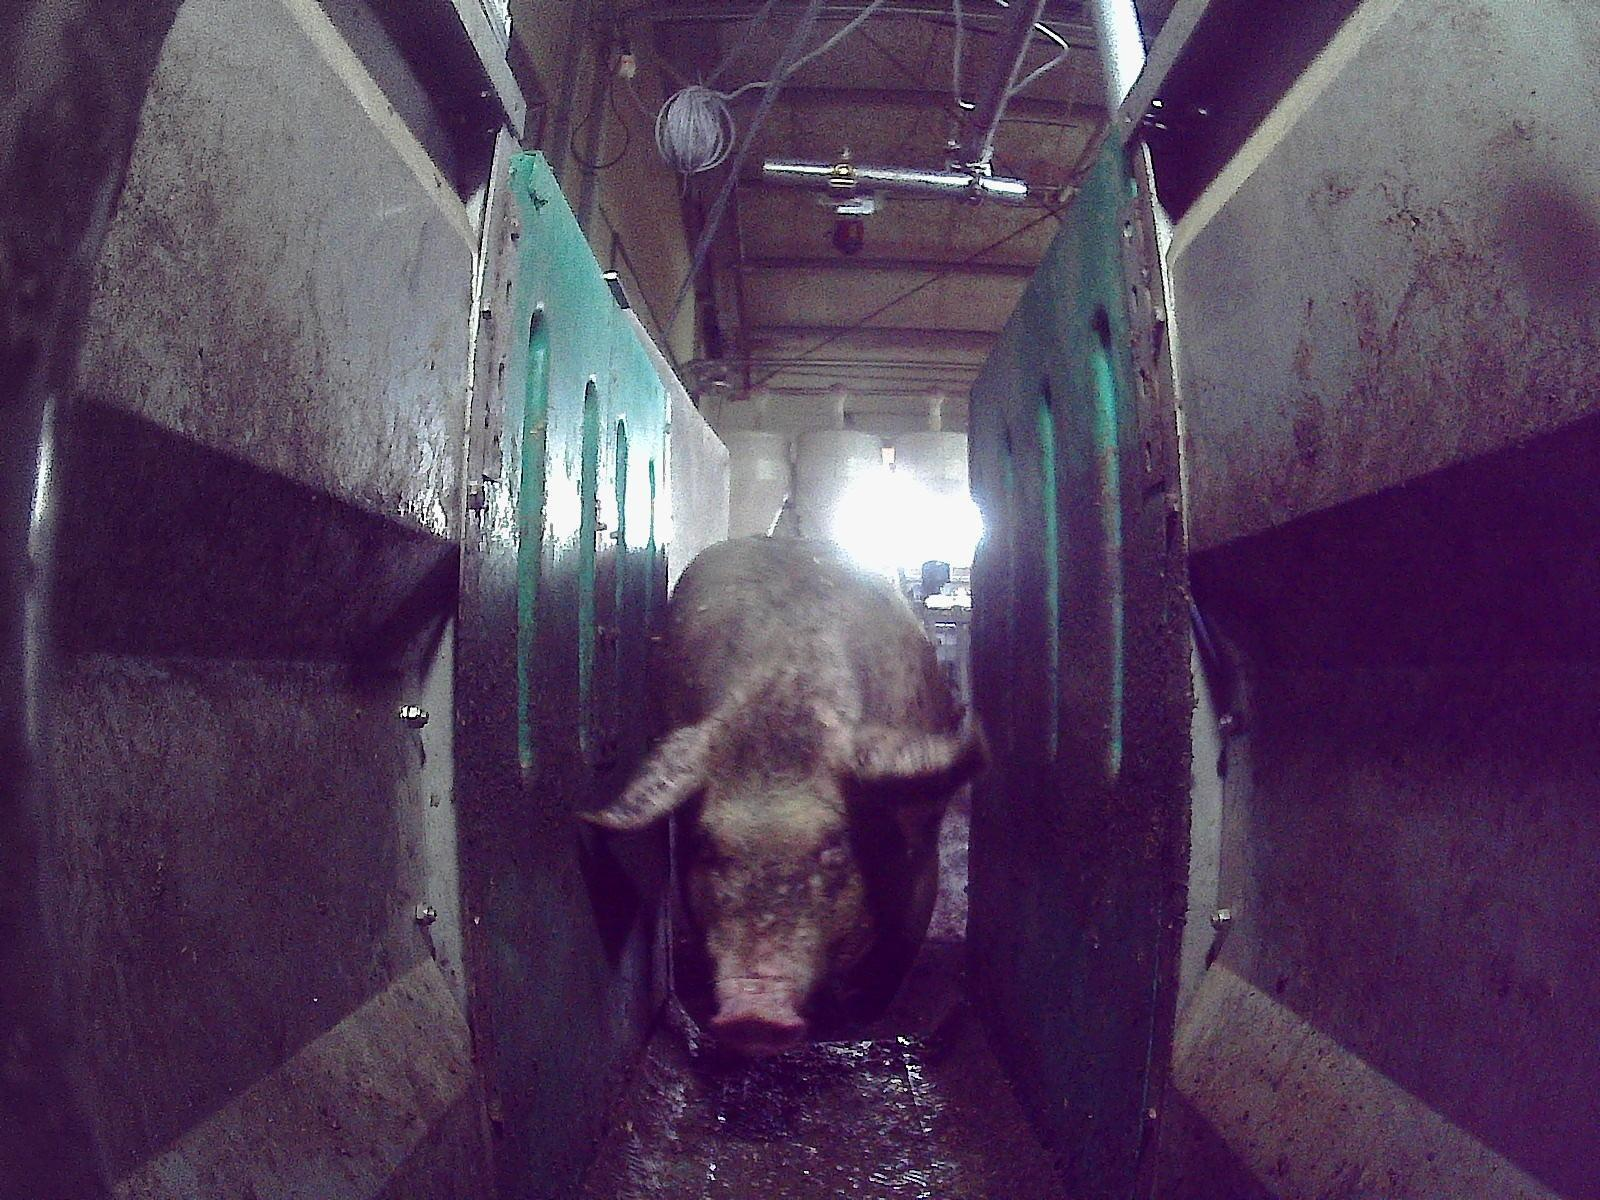Face: (680, 708, 880, 1055)
